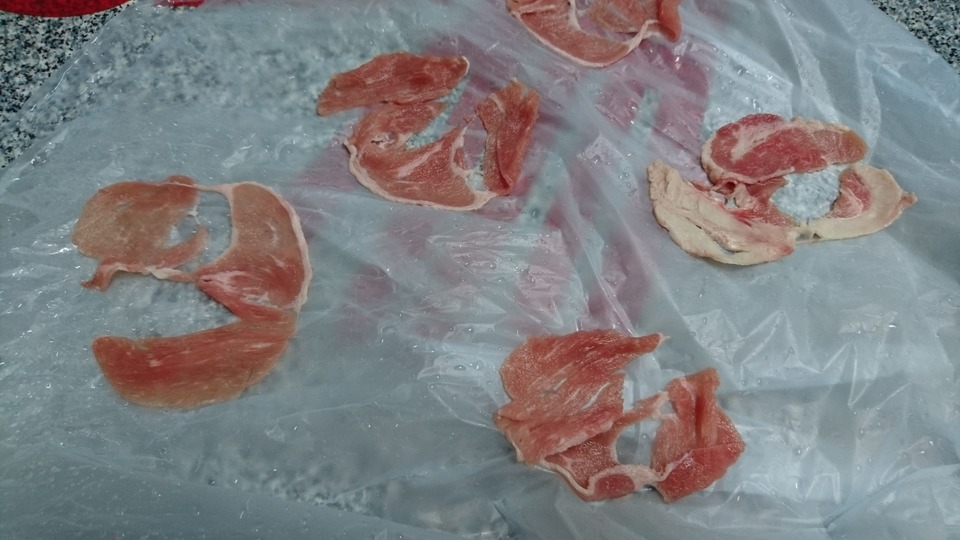restructured meat: (65, 169, 301, 420), (497, 333, 764, 504), (653, 94, 910, 271), (337, 51, 541, 215), (506, 2, 697, 76)
